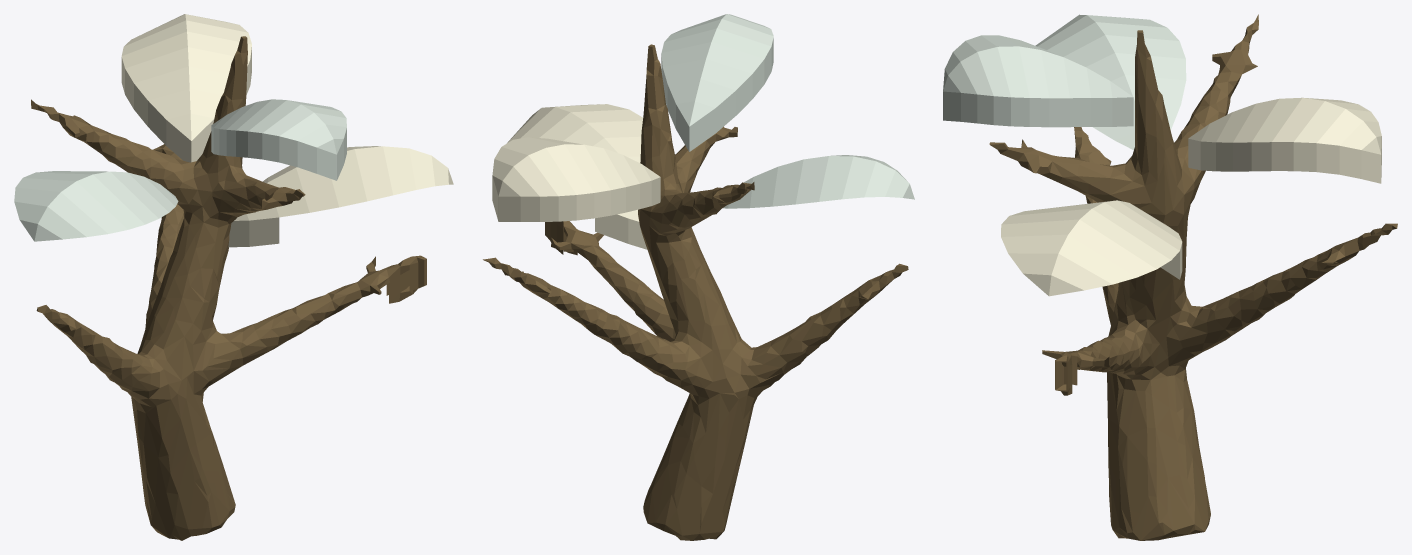
The model's file is SNOWCAP_SHRUB.hi.glb.
3 renders of one model, left to right at view 1: azimuth 30°, elevation 25°; view 2: azimuth 150°, elevation 25°; view 3: azimuth 270°, elevation 25°, orthographic. The views are drawn at different scales.
Visible parts, largest first — view 1: SNOWCAP_SHRUB; view 2: SNOWCAP_SHRUB; view 3: SNOWCAP_SHRUB.
Boxes of the visible parts, left/top/right/bottom form: SNOWCAP_SHRUB: left=14, top=14, right=453, bottom=540; SNOWCAP_SHRUB: left=483, top=14, right=914, bottom=540; SNOWCAP_SHRUB: left=943, top=14, right=1397, bottom=540.
Bounding box in the file's own units: 0.4409 × 0.497 × 0.3838.
Materials: 1 (1 with a texture image).
